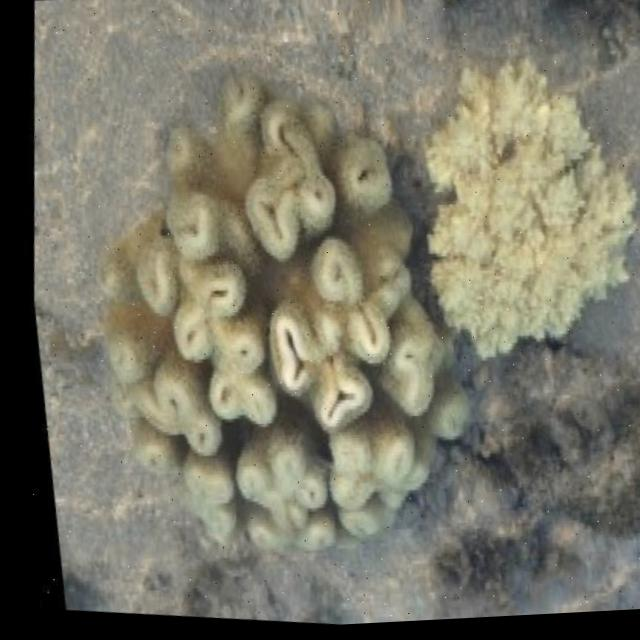Bleached Coral: (9, 27, 456, 577), (392, 36, 640, 443)
